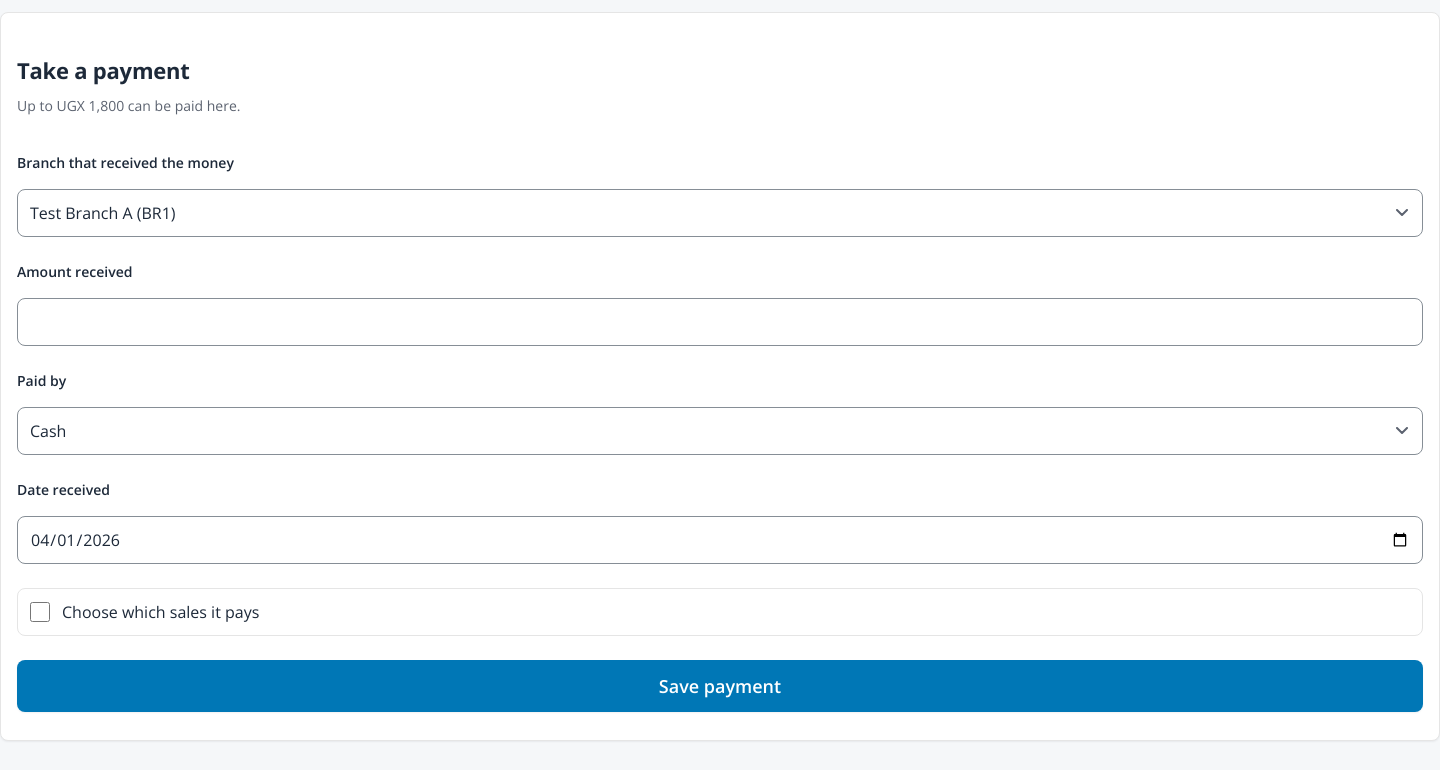
it: taking a payment on account › waits for an amount, previews the oldest sales first, and refuses more than can be paid
Type "1500" into the field labelled "Amount received".
click(720, 322); type("1500")  # box [17,298,1423,346]
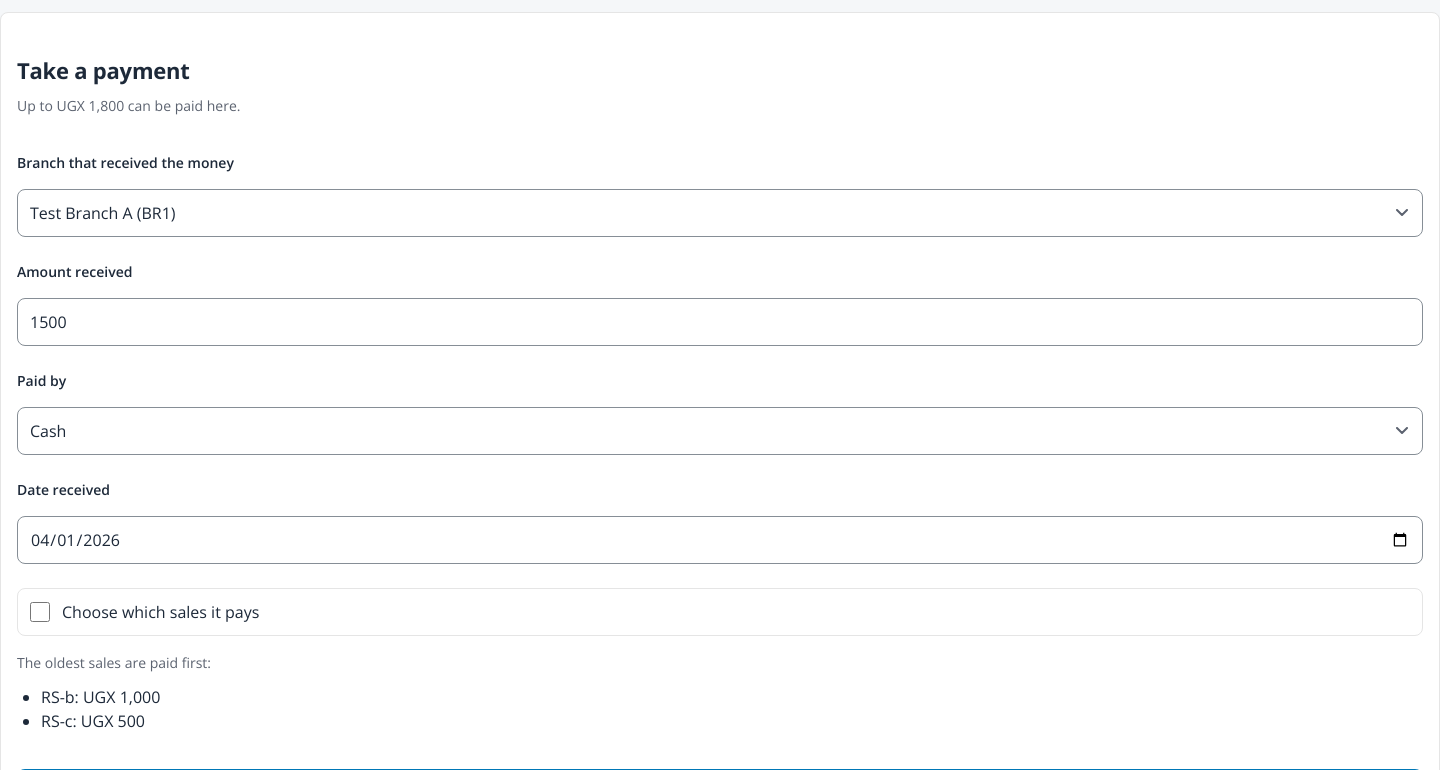
Expected: the element with test id "pay-preview" shows "UGX 1,000", [83,686,160,708]
Expected: the element with test id "pay-preview" shows "UGX 500", [81,710,145,732]
Replace the text in the field labelled "Amount received" with "1801" at (720, 322), box [17,298,1423,346]
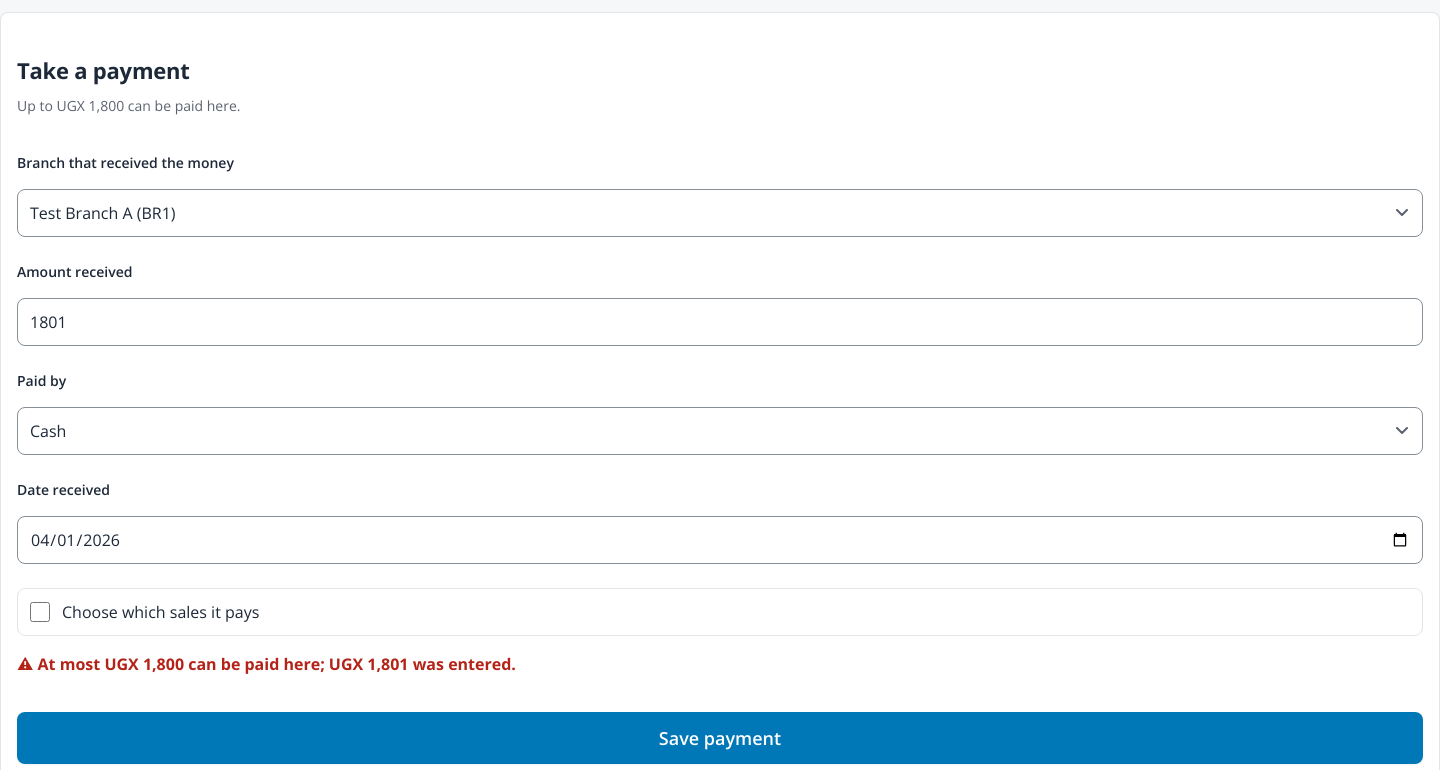
Expected: the message shows "At most UGX 1,800", [38,653,516,675]
